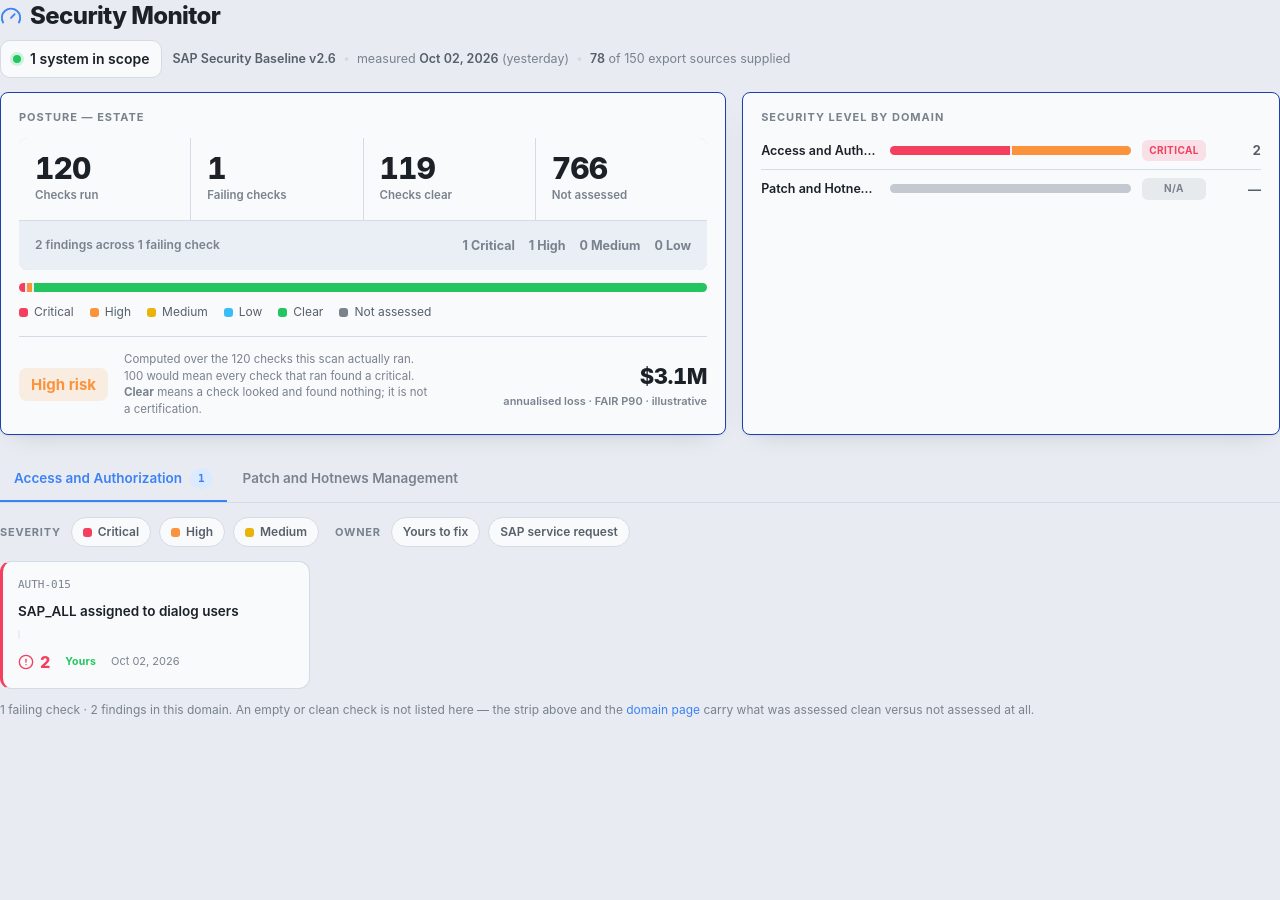
Test: Security Monitor › opens a detail drawer when a check card is clicked
Click the text "SAP_ALL assigned to dialog users" at [128, 612], box top-left (18, 602), bottom-right (239, 621)
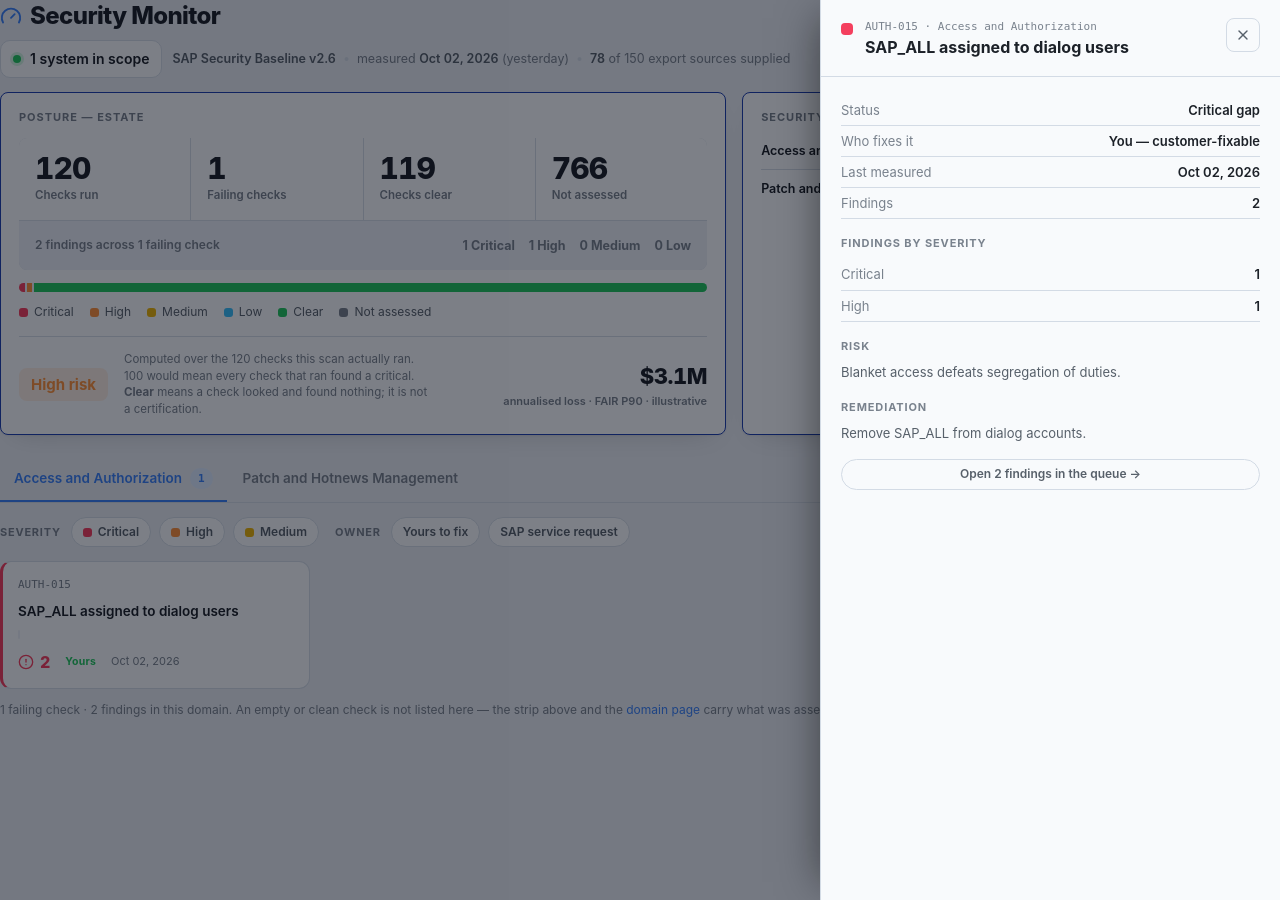
Check: the dialog is shown, box top-left (820, 0), bottom-right (1279, 899)
Check: the text "Who fixes it" is shown, box top-left (841, 131), bottom-right (913, 151)
Check: the text "Remove SAP_ALL from dialog accounts." is shown, box top-left (841, 425), bottom-right (1086, 441)
